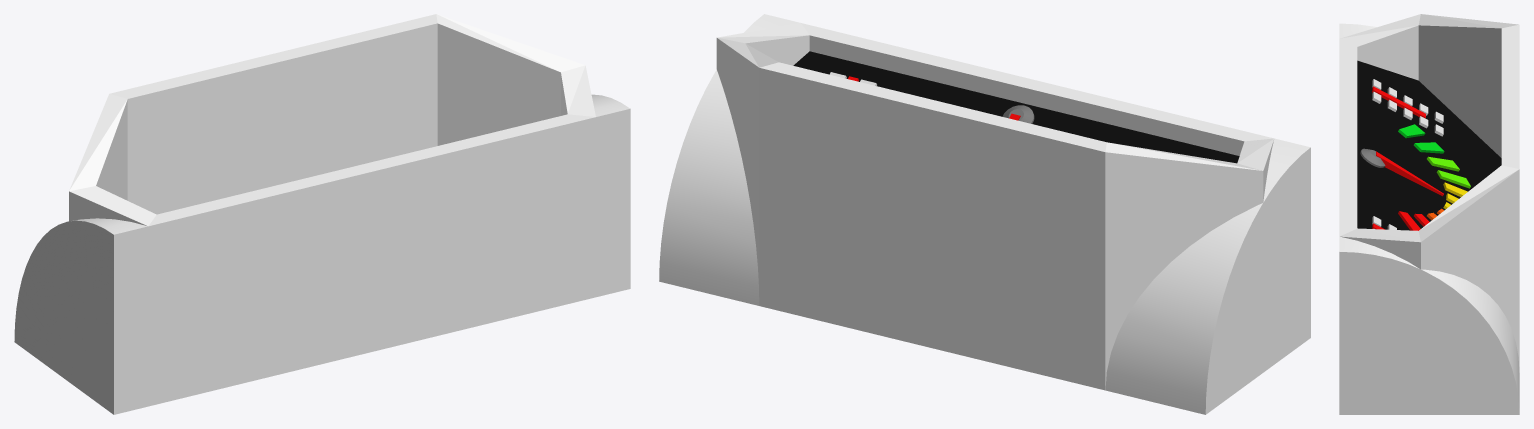
The model's file is Leg_YiBiaoPan_1X3_off.FBX.
The picture shows the model from 3 angles, left to right: view 1: azimuth 30°, elevation 25°; view 2: azimuth 150°, elevation 25°; view 3: azimuth 270°, elevation 25°; orthographic projection. The views are drawn at different scales.
Visible parts, largest first — view 1: YBP; view 2: YBP; view 3: YBP.
Boxes of the visible parts, x1,y1,x2,y2 form: YBP: (14, 14, 630, 414); YBP: (659, 14, 1310, 414); YBP: (1339, 14, 1519, 414).
Size of the model in its own units: 3 by 1.25 by 1.
